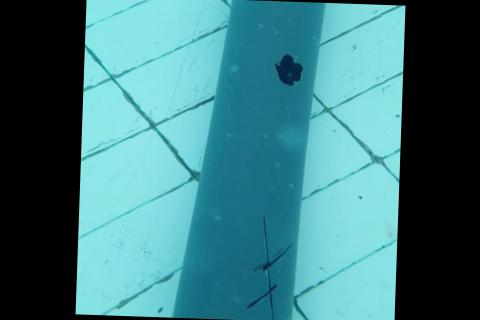kebocoran: (268, 52, 305, 87)
keretakan: (242, 214, 290, 320)
